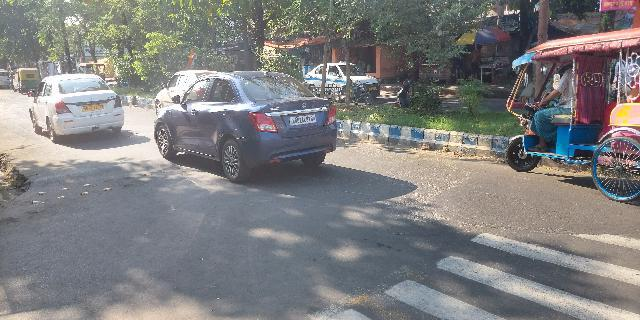Car: (155, 66, 337, 180), (28, 71, 128, 139)
Rickshaw: (492, 27, 640, 204)
